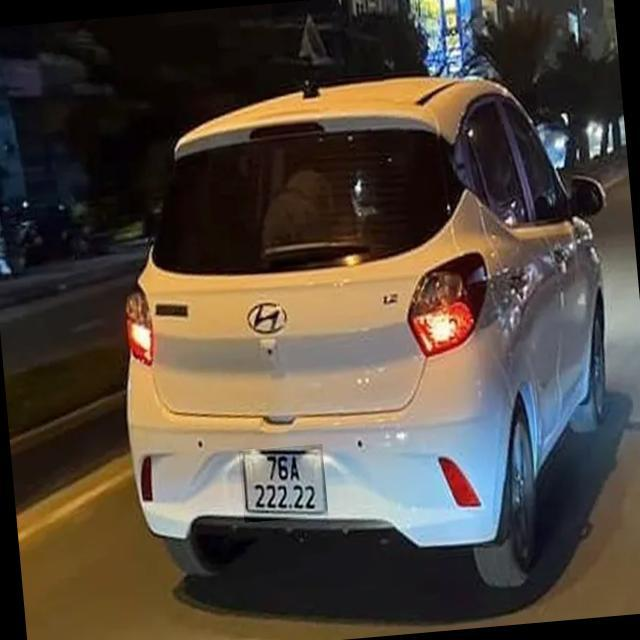car: (96, 14, 624, 604)
plate: (233, 446, 334, 520)
